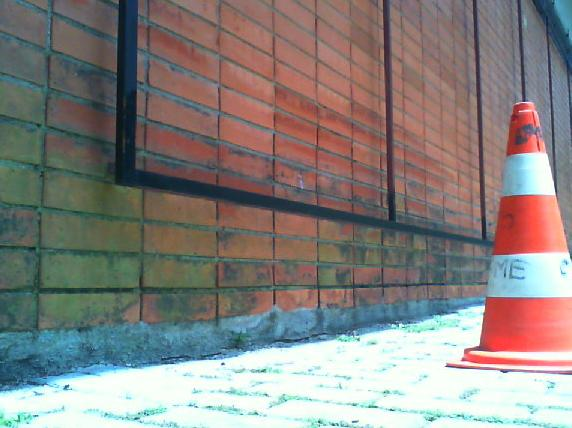0 cone: (445, 102, 572, 374)
